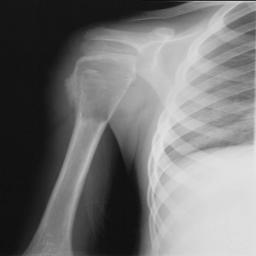cancer: (65, 60, 129, 124)
